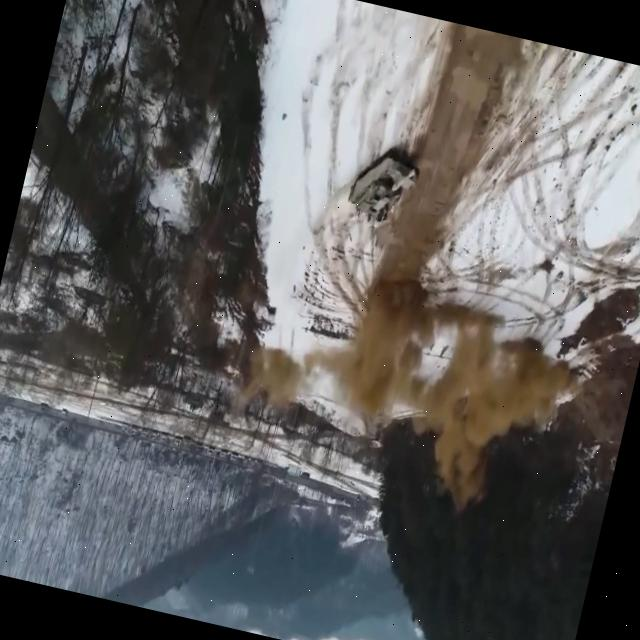korea tank: (341, 136, 424, 233)
